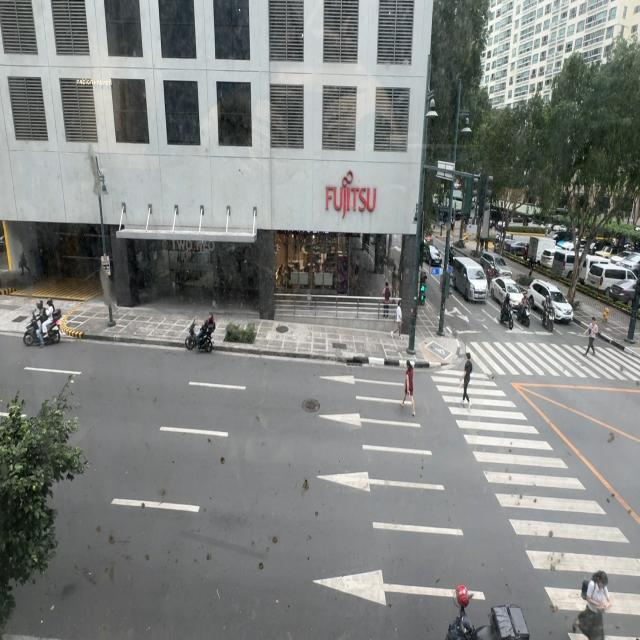crossing: (457, 343, 478, 409), (582, 317, 598, 357)
jaywalking: (400, 368, 415, 424)
pedestrain: (382, 282, 390, 319)
